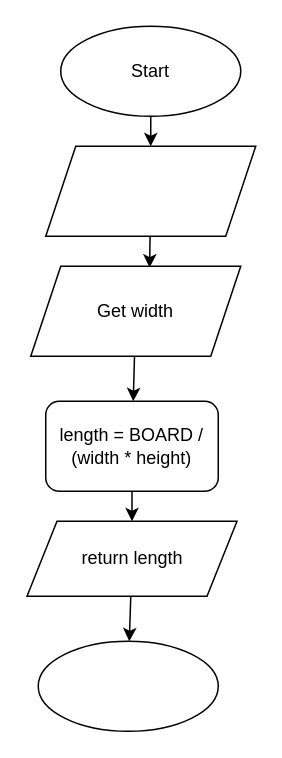
This 282x758 diagram has some shape labels left out. The shapes that lost their labels are listed below. From the top down, each one's box as (x1, y1, x2, y2) in pixels, then its label:
(44, 145, 256, 236): Get height
(37, 640, 218, 731): Stop
